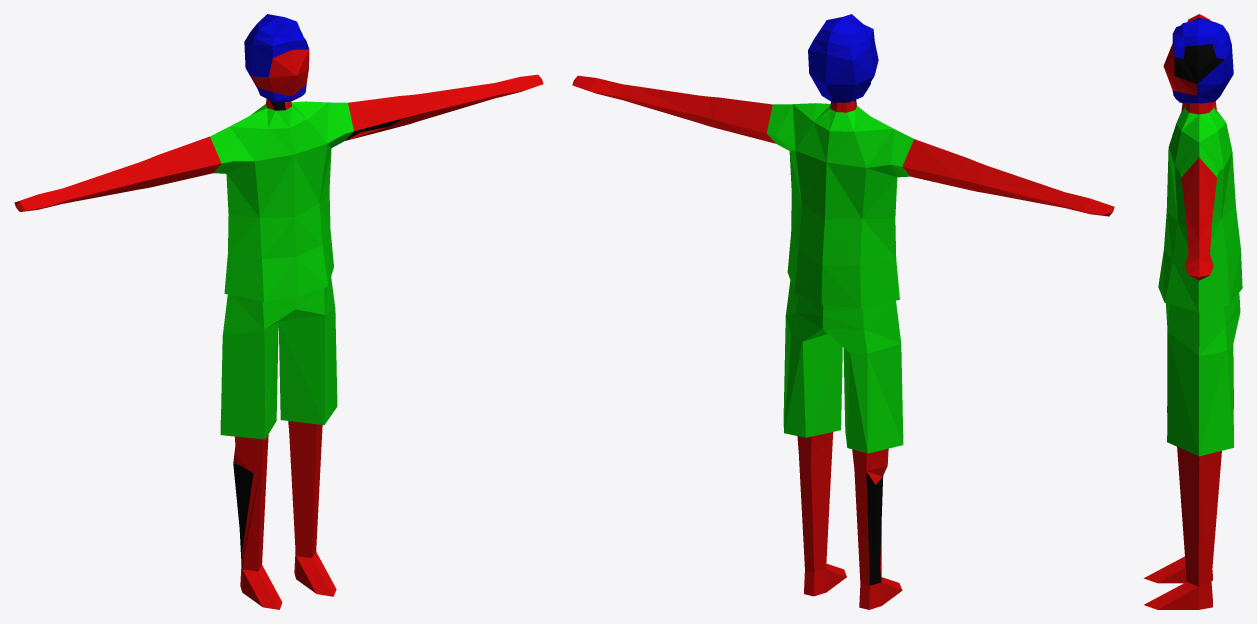
Rendered from Zombies_Male_Adult_NoArmature.fbx.
3 views of the same model, side by side, from view 1: azimuth 30°, elevation 25°; view 2: azimuth 150°, elevation 25°; view 3: azimuth 270°, elevation 25° (orthographic). The views are drawn at different scales.
Parts seen in each view (by area): view 1: Male_Adult; view 2: Male_Adult; view 3: Male_Adult.
Boxes of the visible parts, x1=… form: Male_Adult: x1=14, y1=14, x2=543, y2=609; Male_Adult: x1=572, y1=14, x2=1114, y2=609; Male_Adult: x1=1144, y1=14, x2=1242, y2=609.
Bounding box in the file's own units: 164 × 169 × 26.59.
